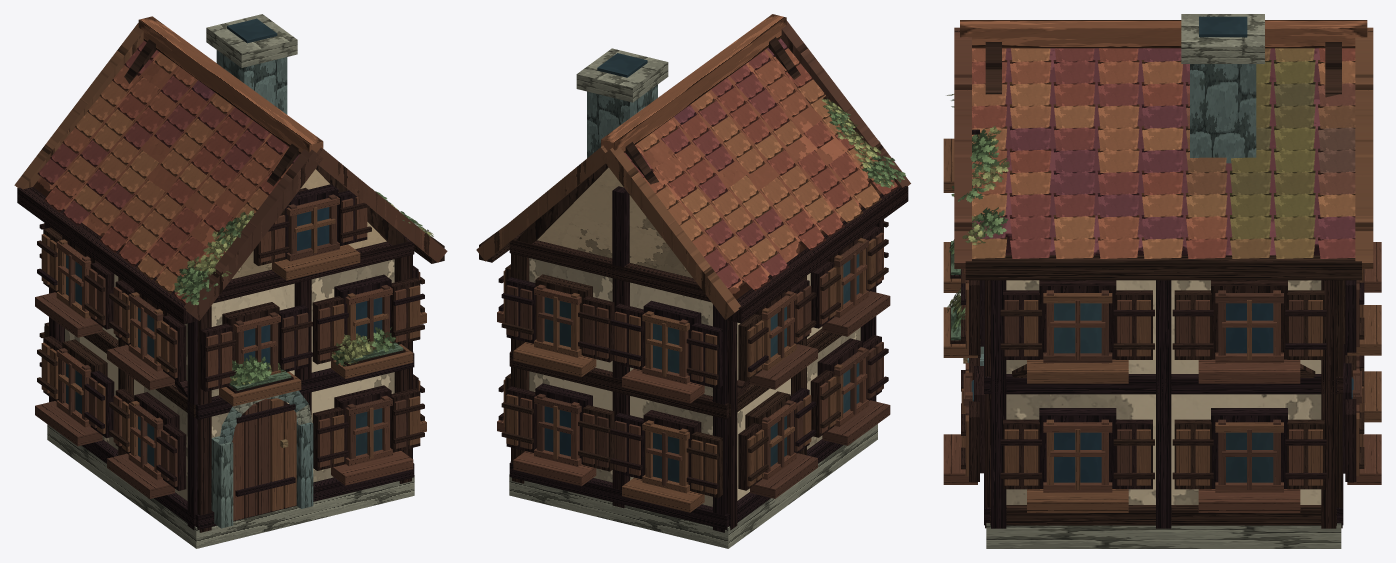
File: far_cottage.glb
3 views of the same model, side by side, from view 1: azimuth 30°, elevation 25°; view 2: azimuth 150°, elevation 25°; view 3: azimuth 270°, elevation 25° (orthographic). The views are drawn at different scales.
Parts seen in each view (by area): view 1: far_cottage; view 2: far_cottage; view 3: far_cottage.
Part boxes in pixels (x1,y1,x2,y2): far_cottage: [14, 14, 447, 548]; far_cottage: [476, 14, 910, 548]; far_cottage: [943, 14, 1381, 548].
Size of the model in its own units: 2.77 by 3.9 by 3.2.
6 materials, 6 textured.
